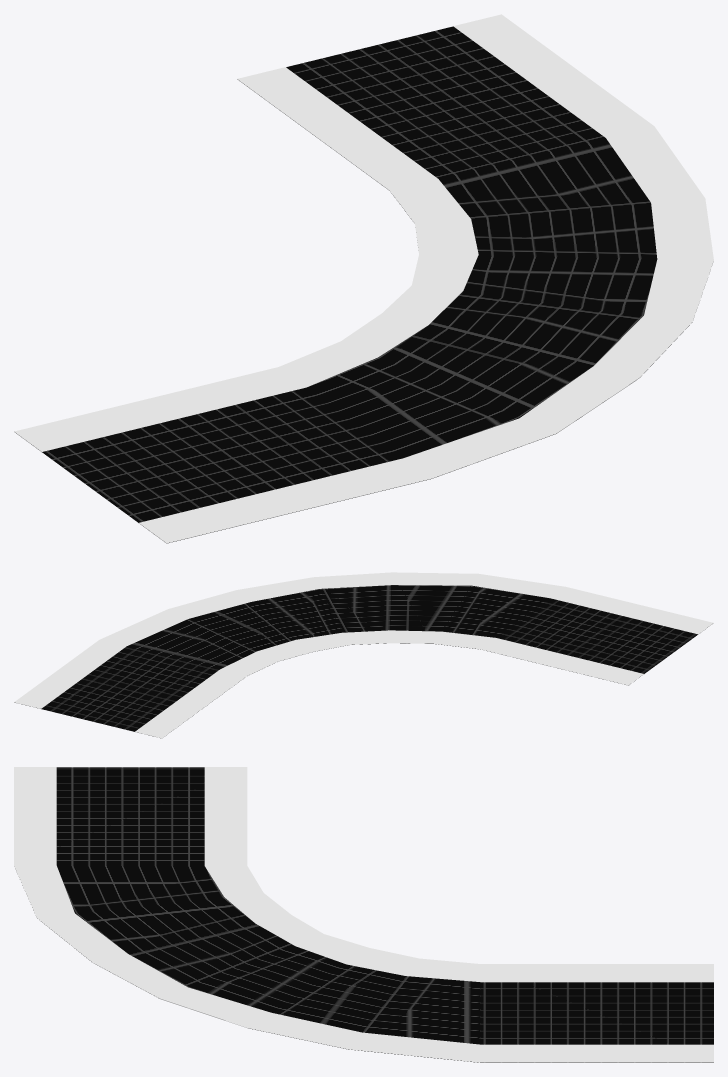
Rendered from grid_corner_right.FBX.
3 renders of one model, top to bottom at view 1: azimuth 30°, elevation 25°; view 2: azimuth 150°, elevation 25°; view 3: azimuth 270°, elevation 25°, orthographic. The views are drawn at different scales.
Parts seen in each view (by area): view 1: grid_corner_right; view 2: grid_corner_right; view 3: grid_corner_right.
Part boxes in pixels (x1=…): grid_corner_right: x1=14, y1=14, x2=713, y2=543; grid_corner_right: x1=14, y1=572, x2=713, y2=738; grid_corner_right: x1=14, y1=767, x2=713, y2=1062.
Bounding box in the file's own units: 180 × 0.0547 × 180.
Materials: 2 (2 with a texture image).
